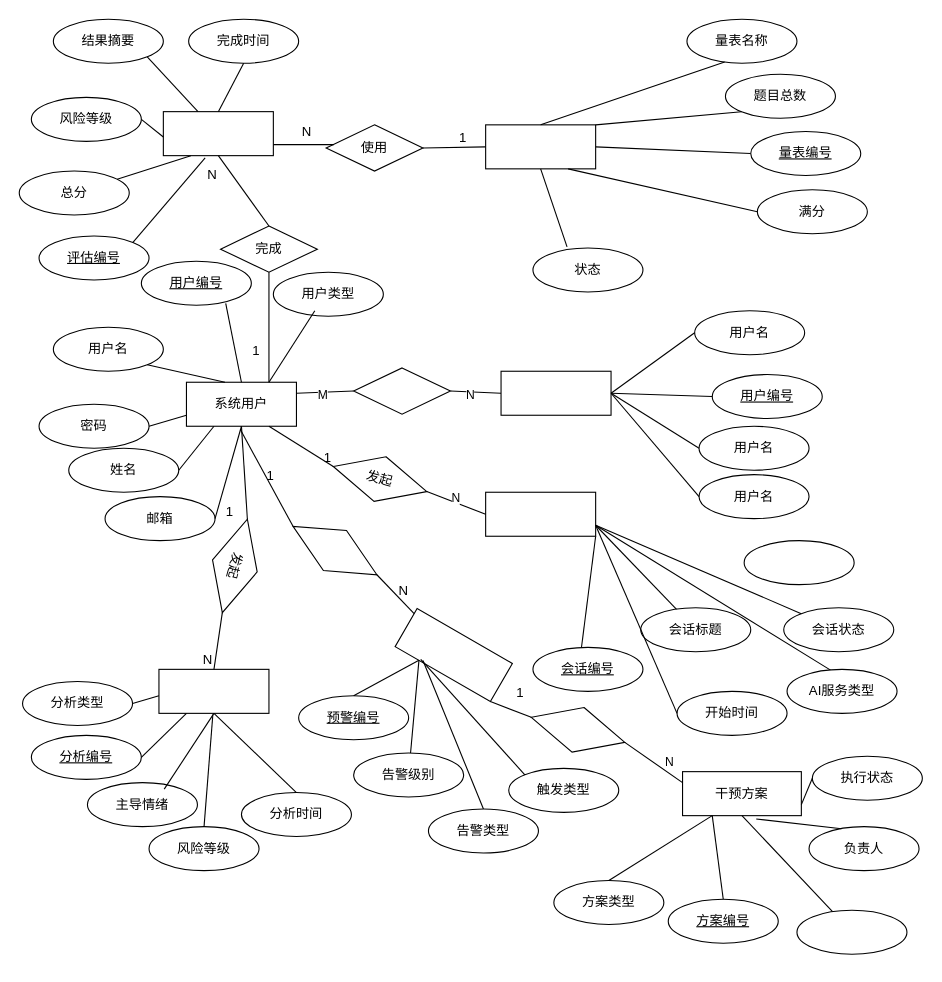
The diagram is 942 pixels wide and 982 high, and some of its shapes have lost their labels. The centre of each missing label's shape, as x and y in pixels:
危险预警: point (453, 654)
处理: point (334, 550)
归属: point (401, 390)
情绪分析: point (213, 690)
方案内容: point (851, 931)
生成: point (577, 729)
组织机构: point (555, 392)
评估会话: point (217, 133)
评估量表: point (540, 146)
诊断会话: point (540, 513)
诊断状态: point (798, 562)
